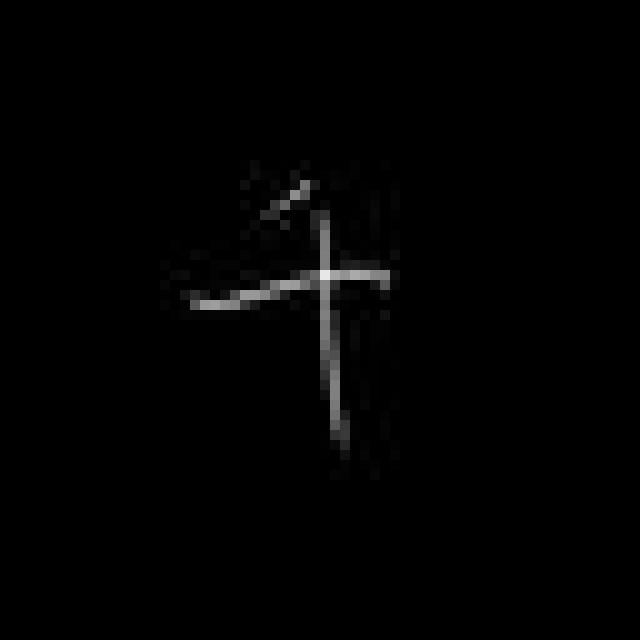1000 -a thousand-: (174, 159, 421, 461)
